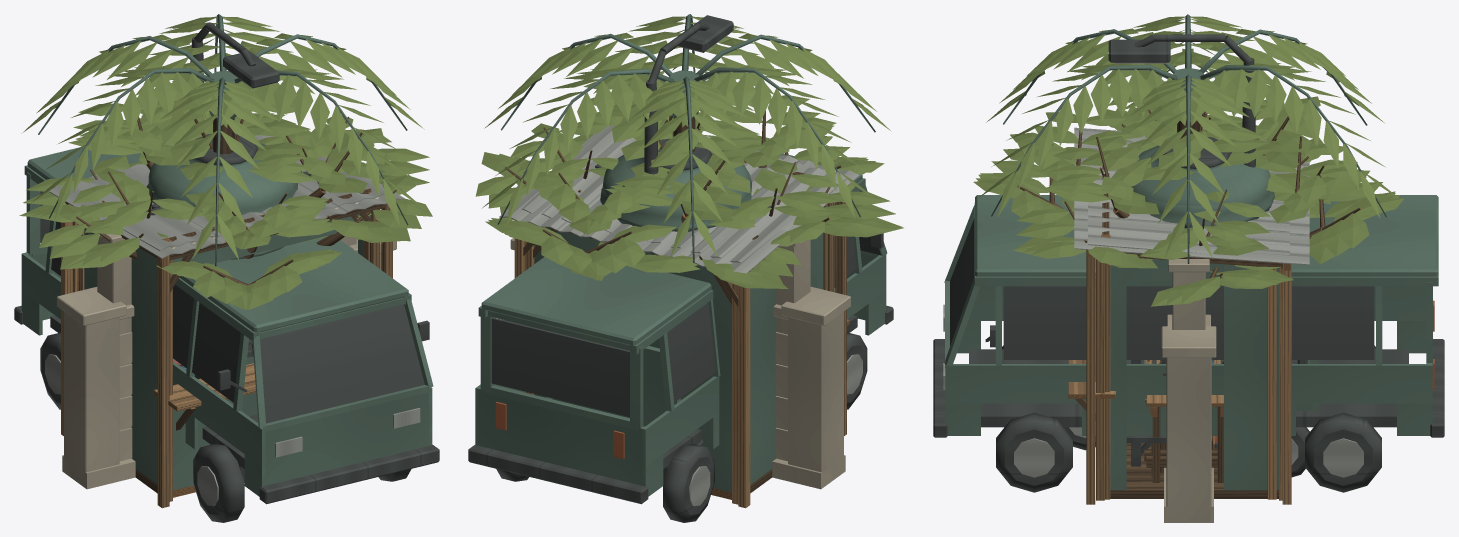
3 renders of one model, left to right at view 1: azimuth 30°, elevation 25°; view 2: azimuth 150°, elevation 25°; view 3: azimuth 270°, elevation 25°, orthographic.
Parts seen in each view (by area): view 1: minibus, palm, broadleaf-tree, acacia, kiosk, wall, canopy, water-tank, market-stall, gate, street-lamp; view 2: minibus, palm, broadleaf-tree, kiosk, acacia, wall, market-stall, canopy, water-tank, street-lamp, gate, three-wheeler; view 3: minibus, palm, kiosk, broadleaf-tree, acacia, market-stall, wall, water-tank, canopy, street-lamp, gate, three-wheeler.
Part boxes in pixels (x1,y1,x2,y2): minibus: (14, 147, 439, 522); palm: (21, 14, 424, 266); broadleaf-tree: (68, 81, 391, 258); acacia: (19, 108, 432, 309); kiosk: (49, 135, 405, 501); wall: (57, 239, 396, 489); canopy: (61, 197, 392, 508); water-tank: (146, 134, 297, 379); market-stall: (70, 156, 384, 370); gate: (93, 233, 356, 482); street-lamp: (190, 22, 279, 115); minibus: (468, 153, 893, 522); palm: (482, 14, 890, 262); broadleaf-tree: (510, 71, 842, 234); kiosk: (499, 131, 859, 504); acacia: (475, 109, 903, 288); wall: (510, 238, 850, 489); market-stall: (521, 126, 846, 290); canopy: (514, 186, 847, 508); water-tank: (600, 138, 751, 231); street-lamp: (644, 15, 733, 174); gate: (772, 240, 810, 482); three-wheeler: (558, 335, 703, 445); minibus: (933, 195, 1444, 492); palm: (976, 14, 1400, 263); kiosk: (1068, 127, 1309, 500); broadleaf-tree: (1010, 85, 1367, 259); acacia: (973, 107, 1404, 306); market-stall: (1088, 128, 1289, 499); wall: (1161, 314, 1216, 522); water-tank: (1131, 137, 1274, 466); canopy: (1086, 250, 1291, 504); street-lamp: (1108, 34, 1255, 167); gate: (1168, 259, 1209, 329); three-wheeler: (1064, 360, 1318, 477).
Bounding box in the file's own units: 3.93 × 3.83 × 4.3.
1 material, 1 textured.
